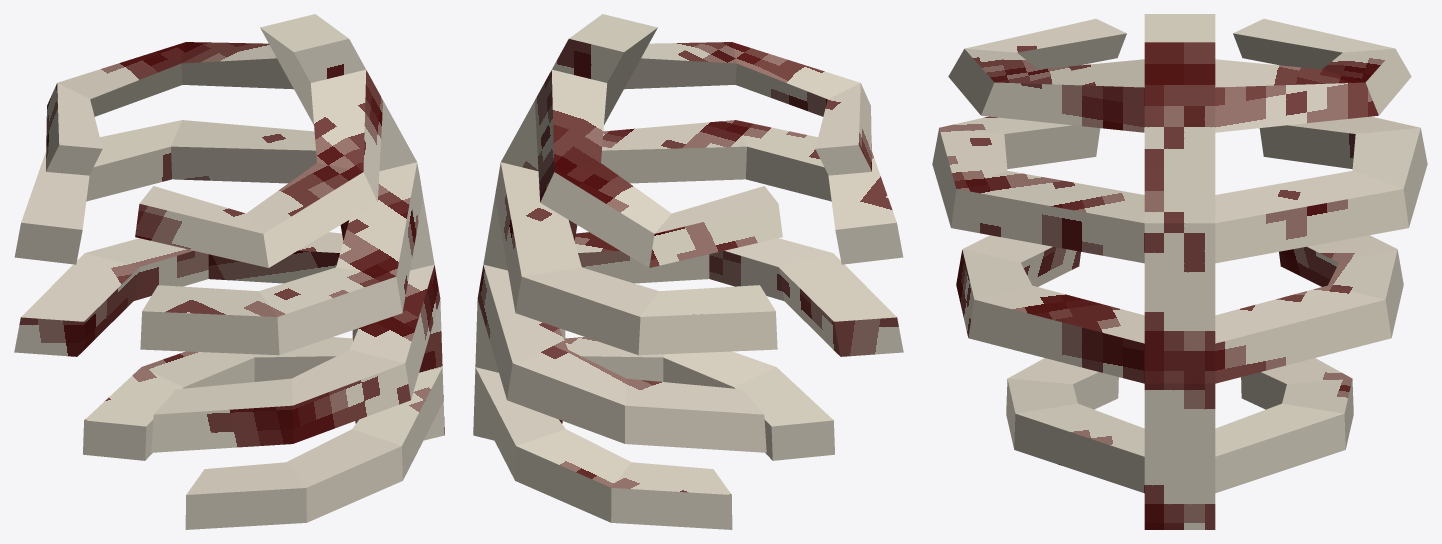
The model's file is HumanRibcage.fbx.
The picture shows the model from 3 angles, left to right: view 1: azimuth 30°, elevation 25°; view 2: azimuth 150°, elevation 25°; view 3: azimuth 270°, elevation 25°; orthographic projection. The views are drawn at different scales.
Visible parts, largest first — view 1: RibCage; view 2: RibCage; view 3: RibCage.
Part boxes in pixels (x1,y1,x2,y2): RibCage: (14,14,444,529); RibCage: (473,14,903,529); RibCage: (932,14,1427,529).
Bounding box in the file's own units: 344 × 394 × 403.
